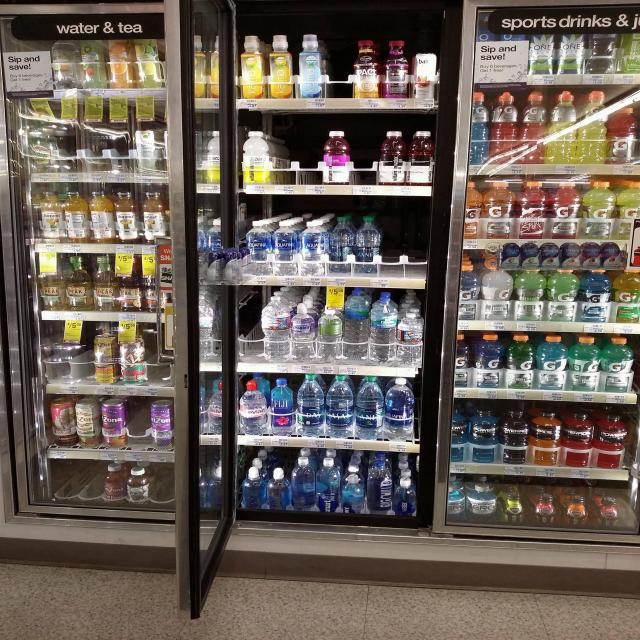empty_space: (329, 36, 348, 93), (241, 298, 259, 349), (302, 139, 319, 179), (409, 222, 427, 258), (357, 135, 371, 180), (385, 220, 400, 260), (284, 141, 296, 179)
